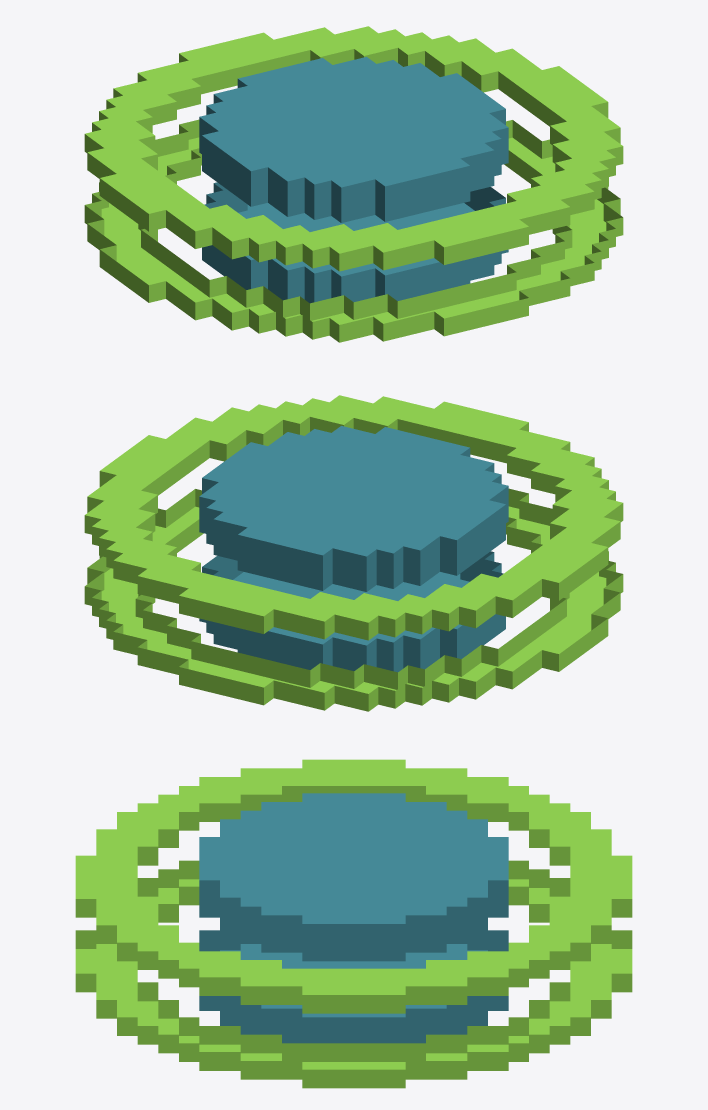
The model's file is DoubleCircle.fbx.
3 renders of one model, top to bottom at view 1: azimuth 30°, elevation 25°; view 2: azimuth 150°, elevation 25°; view 3: azimuth 270°, elevation 25°, orthographic. The views are drawn at different scales.
Visible parts, largest first — view 1: Untitled; view 2: Untitled; view 3: Untitled.
Boxes of the visible parts, x1,y1,x2,y2 form: Untitled: (84,26,623,342); Untitled: (84,395,623,711); Untitled: (75,759,632,1088).
Bounding box in the file's own units: 3.3 × 0.7 × 3.3.
